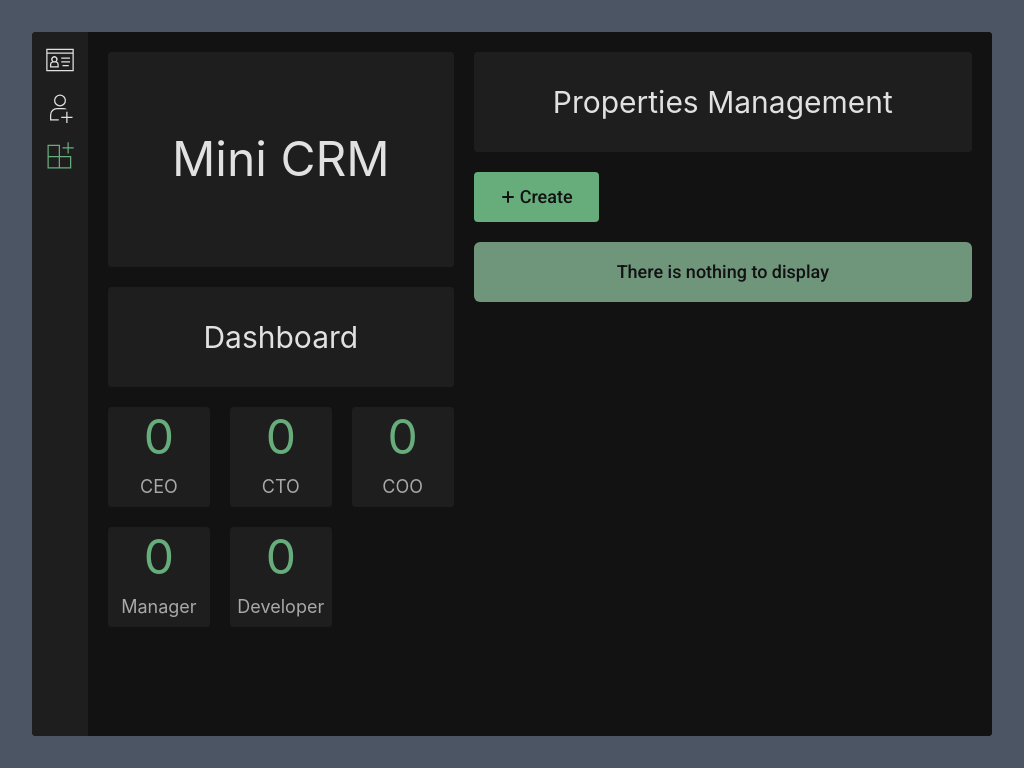
Test case: Menu test: open (create, edit), close, render content › opens and closes the menu modal on another route
Click the button with test id "button-menu-open" at (537, 197), box 474,172 -> 599,222
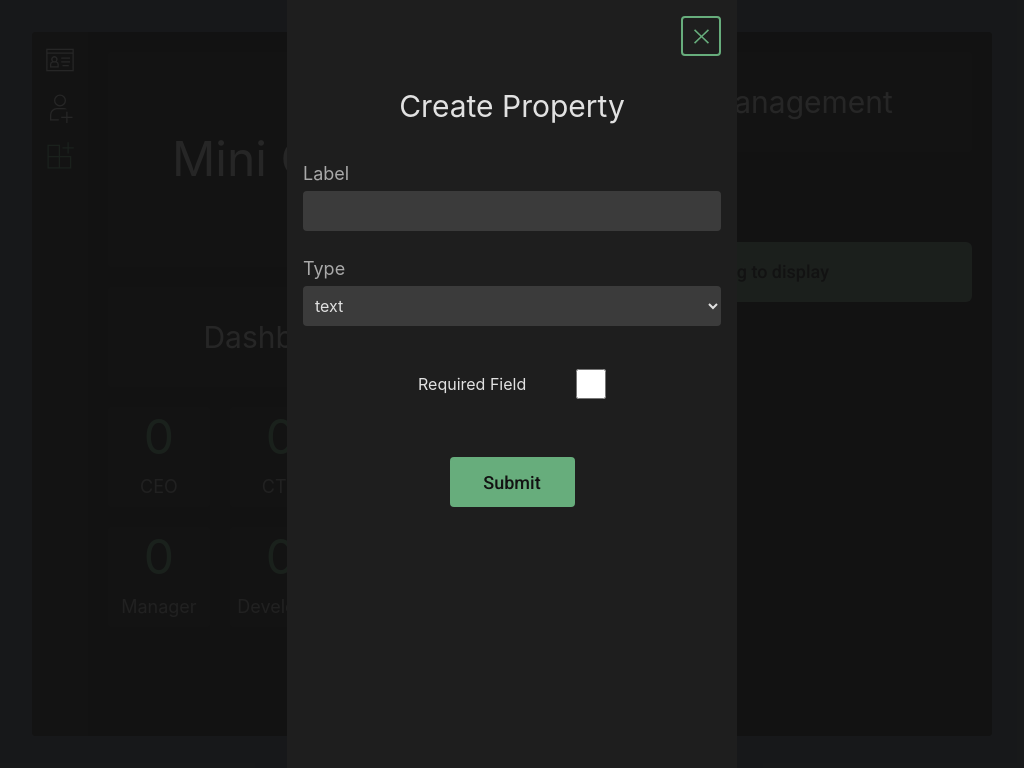
Now the element with test id "menu-backdrop" is shown
Now the element with test id "menu-modal" is shown, box 287,0 -> 737,767
Now the element with test id "menu-button-container" is shown
Click the button with test id "button-menu-close" at (701, 36), box 681,16 -> 721,56
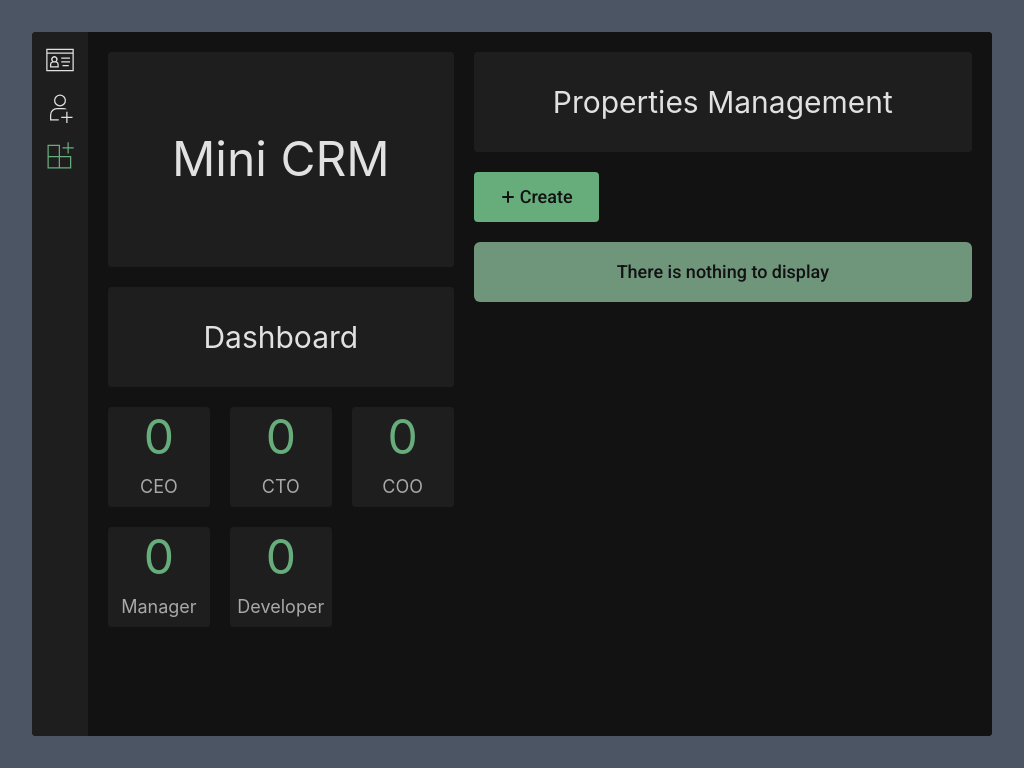
Now the element with test id "menu-backdrop" is gone
Now the element with test id "menu-modal" is gone
Now the element with test id "menu-button-container" is gone
